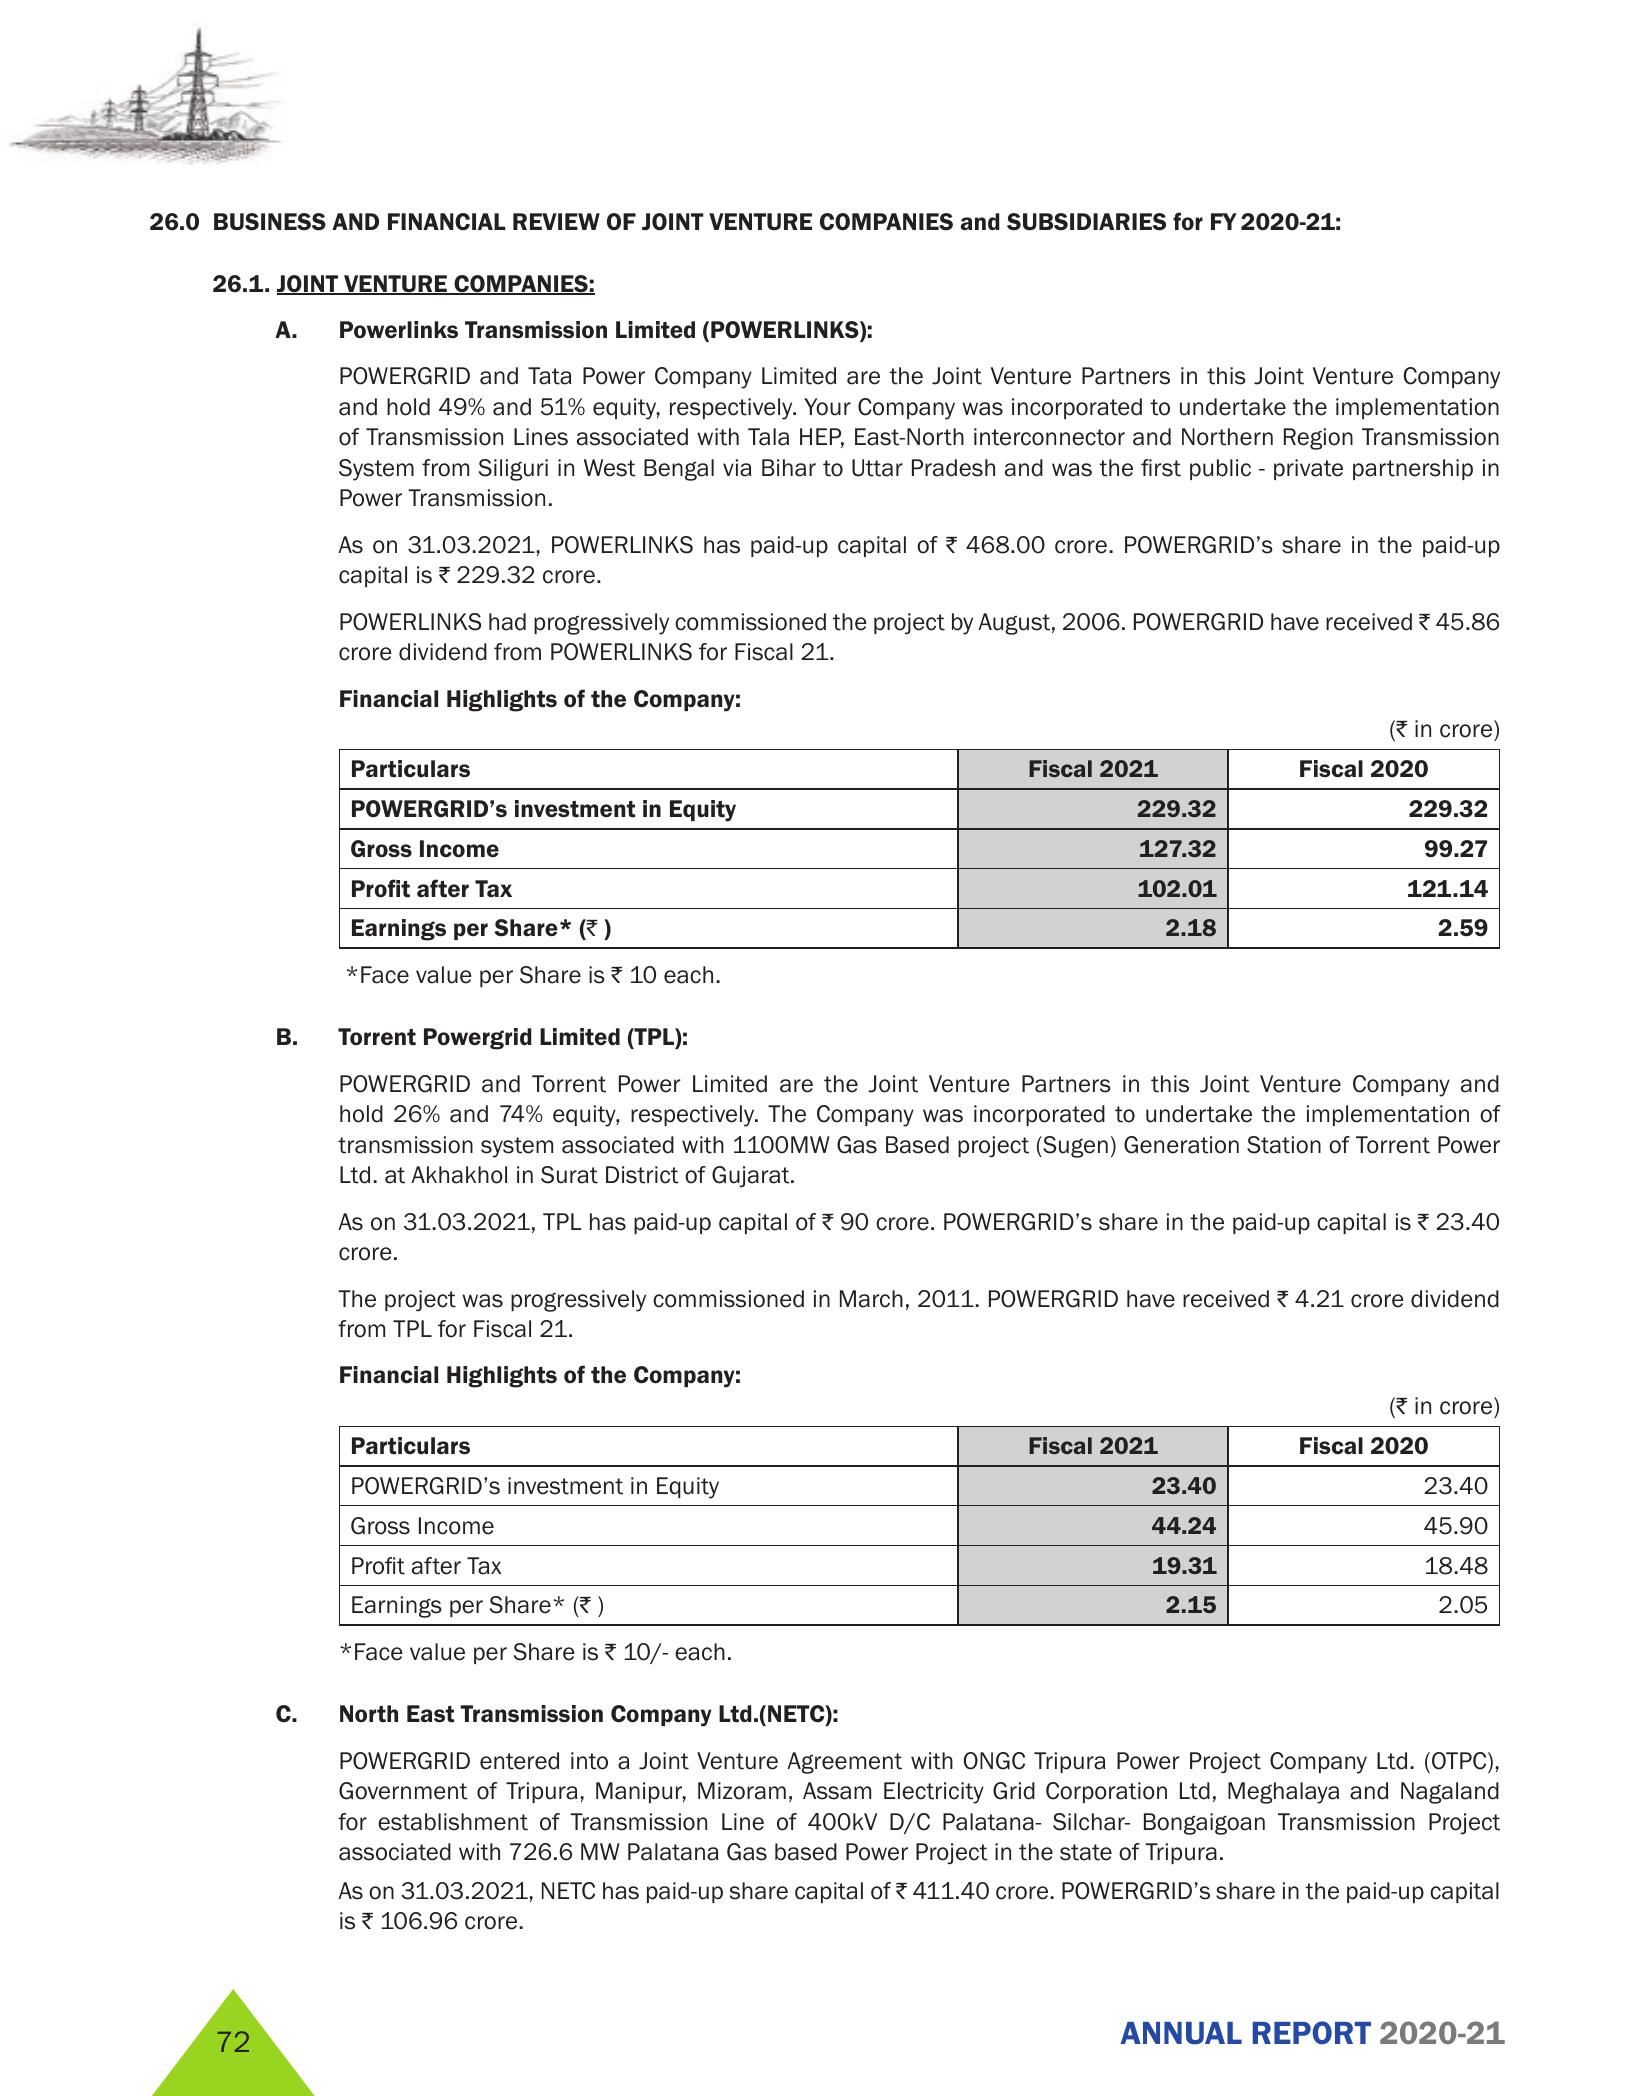Footer: (0, 1968, 1650, 2096)
Header: (0, 0, 1650, 168)
Table: (228, 1385, 1536, 1642), (245, 711, 1539, 960)
